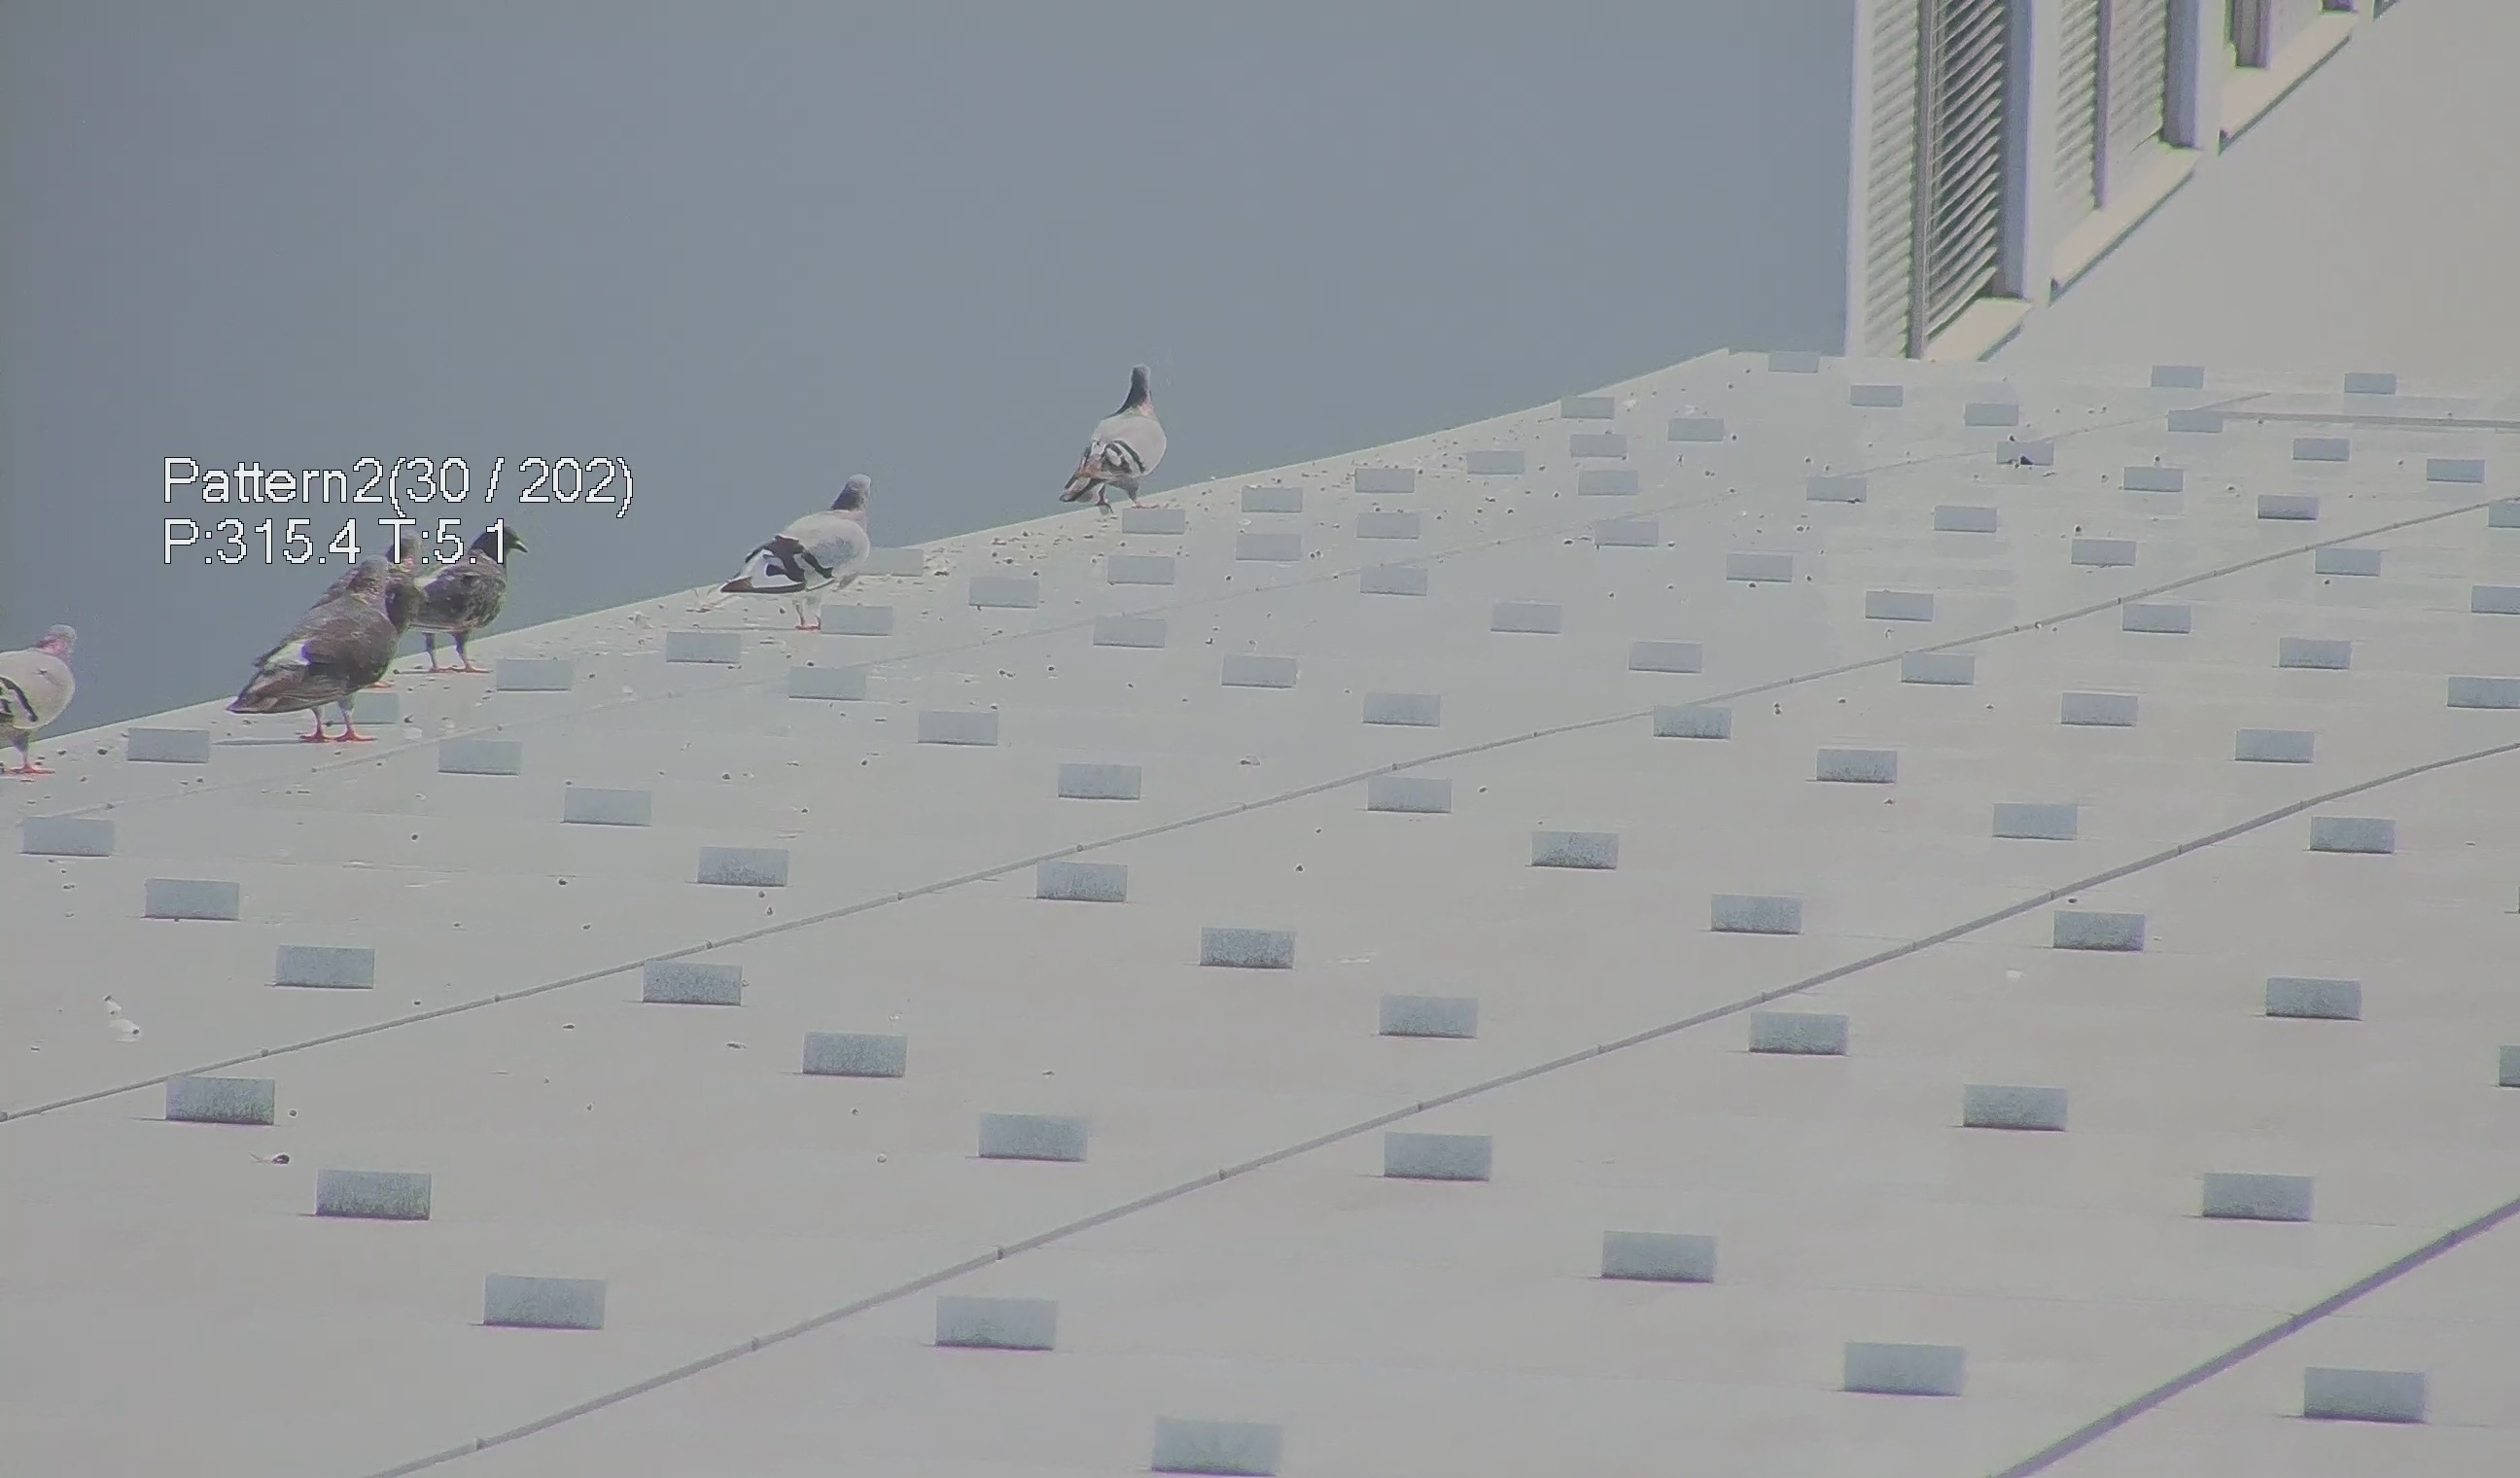Pigeon: (223, 552, 422, 751), (712, 466, 885, 612), (1045, 345, 1168, 526), (378, 516, 526, 662), (2, 609, 76, 781)
